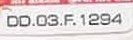character: (110, 12, 122, 25), (6, 15, 18, 27), (35, 14, 47, 26), (46, 14, 58, 26), (100, 12, 110, 26), (19, 15, 30, 27), (88, 13, 99, 25), (63, 13, 73, 26), (79, 13, 86, 26)
